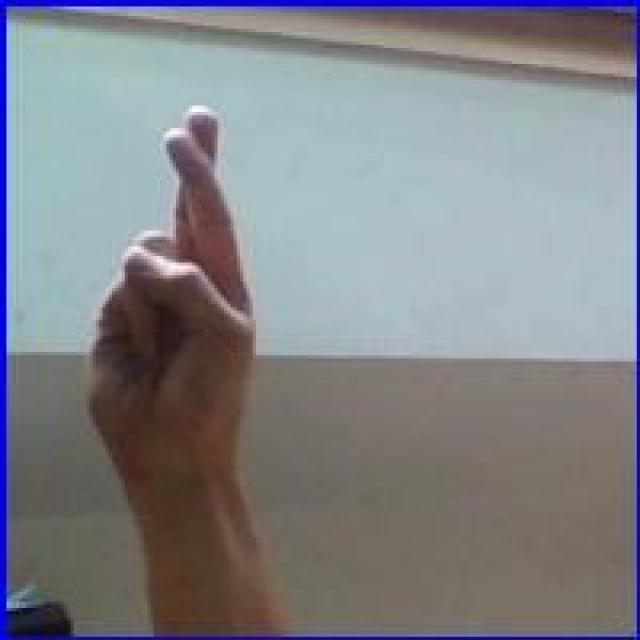R: (78, 100, 261, 518)
